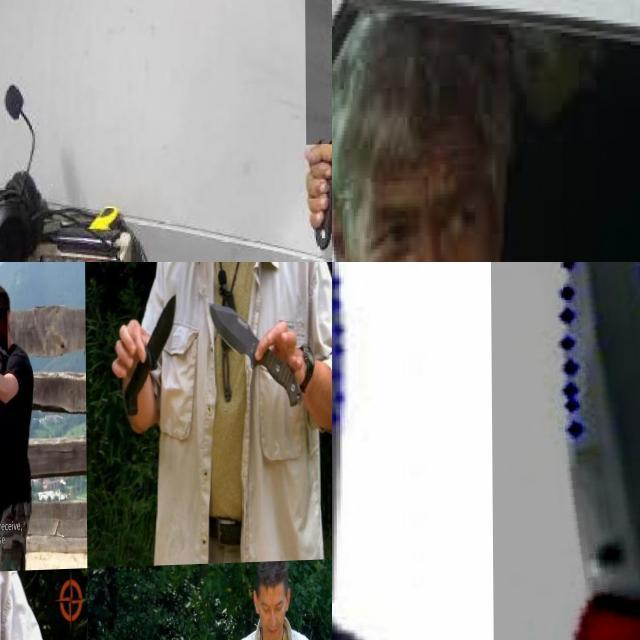-: (490, 262, 640, 640), (207, 300, 302, 414), (121, 293, 176, 422), (305, 0, 332, 147), (0, 309, 21, 364)
